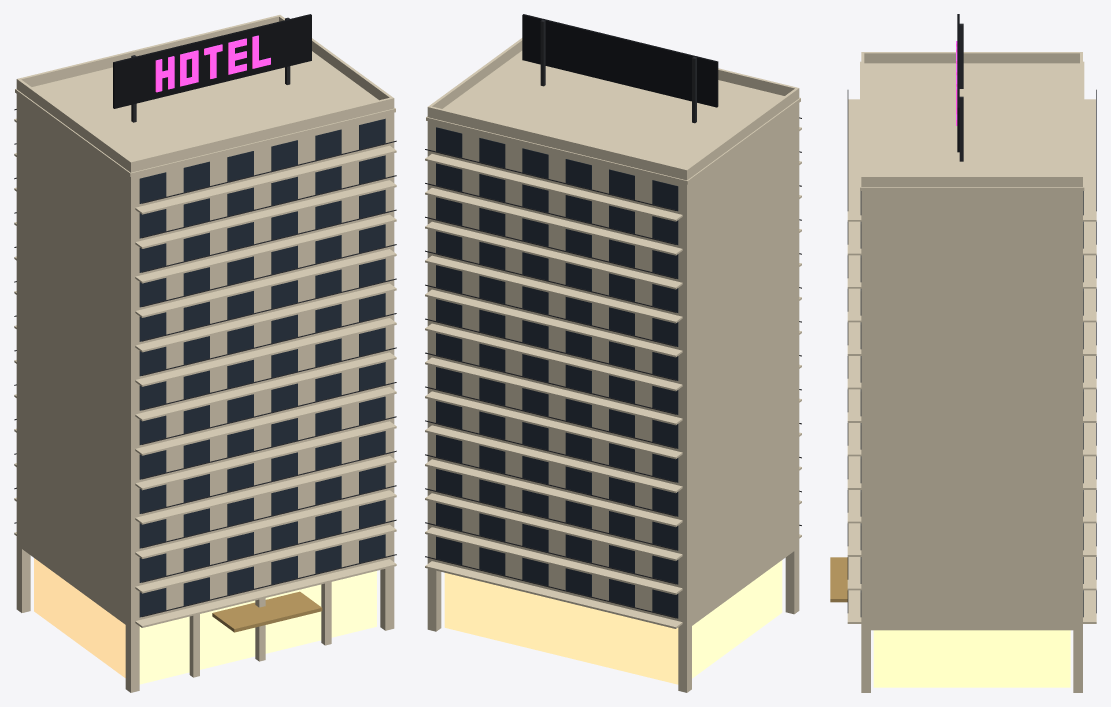
The model's file is bld_dt_hotel.glb.
The picture shows the model from 3 angles, left to right: view 1: azimuth 30°, elevation 25°; view 2: azimuth 150°, elevation 25°; view 3: azimuth 270°, elevation 25°; orthographic projection. The views are drawn at different scales.
Parts seen in each view (by area): view 1: bld_dt_hotel; view 2: bld_dt_hotel; view 3: bld_dt_hotel.
Boxes of the visible parts, left/top/right/bottom form: bld_dt_hotel: left=14, top=14, right=396, bottom=692; bld_dt_hotel: left=425, top=14, right=801, bottom=692; bld_dt_hotel: left=830, top=14, right=1096, bottom=692.
Size of what is drawn, in the model's own units: 24.2 by 51 by 21.6.
